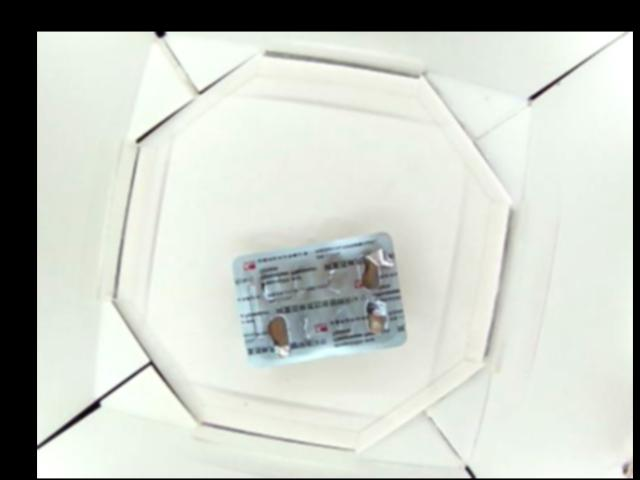Medicine: (228, 229, 409, 368)
